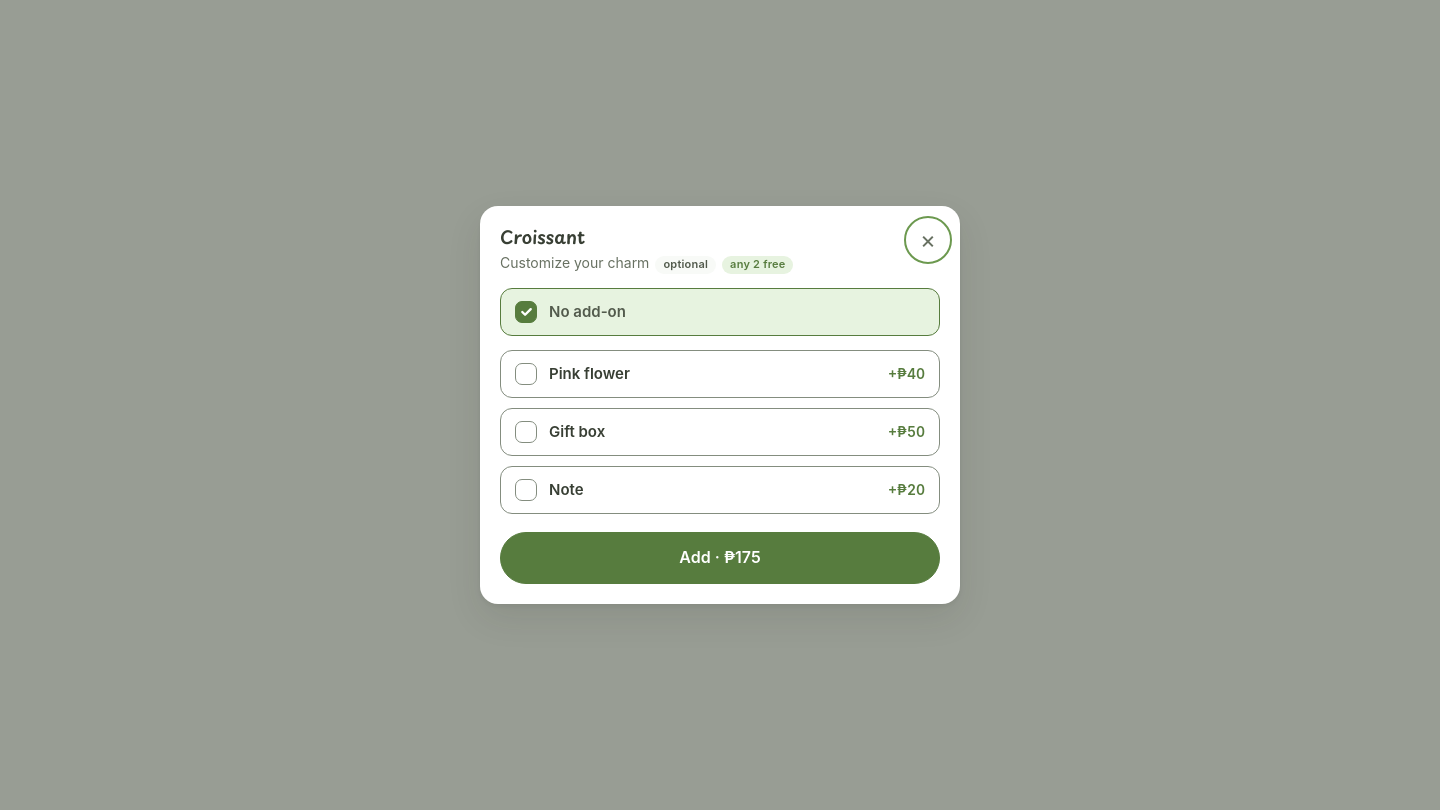
it: the add-on picker's running price › moves the charge onto the cheapest once they pick a third
Click the checkbox labelled "Pink flower +₱40" at point(526, 374), box [515,363,537,385]
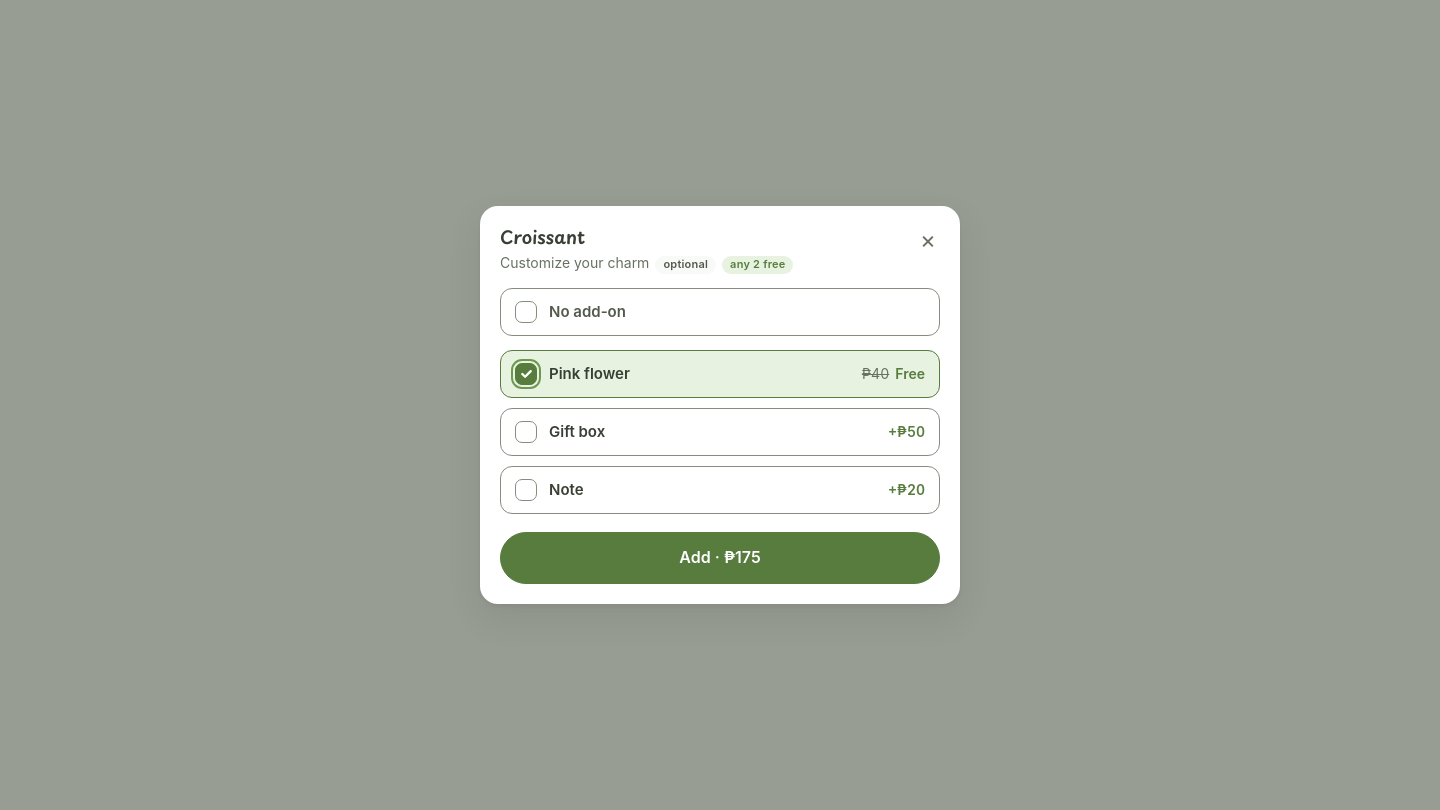
Click the checkbox labelled "Gift box +₱50" at point(526, 432), box [515,421,537,443]
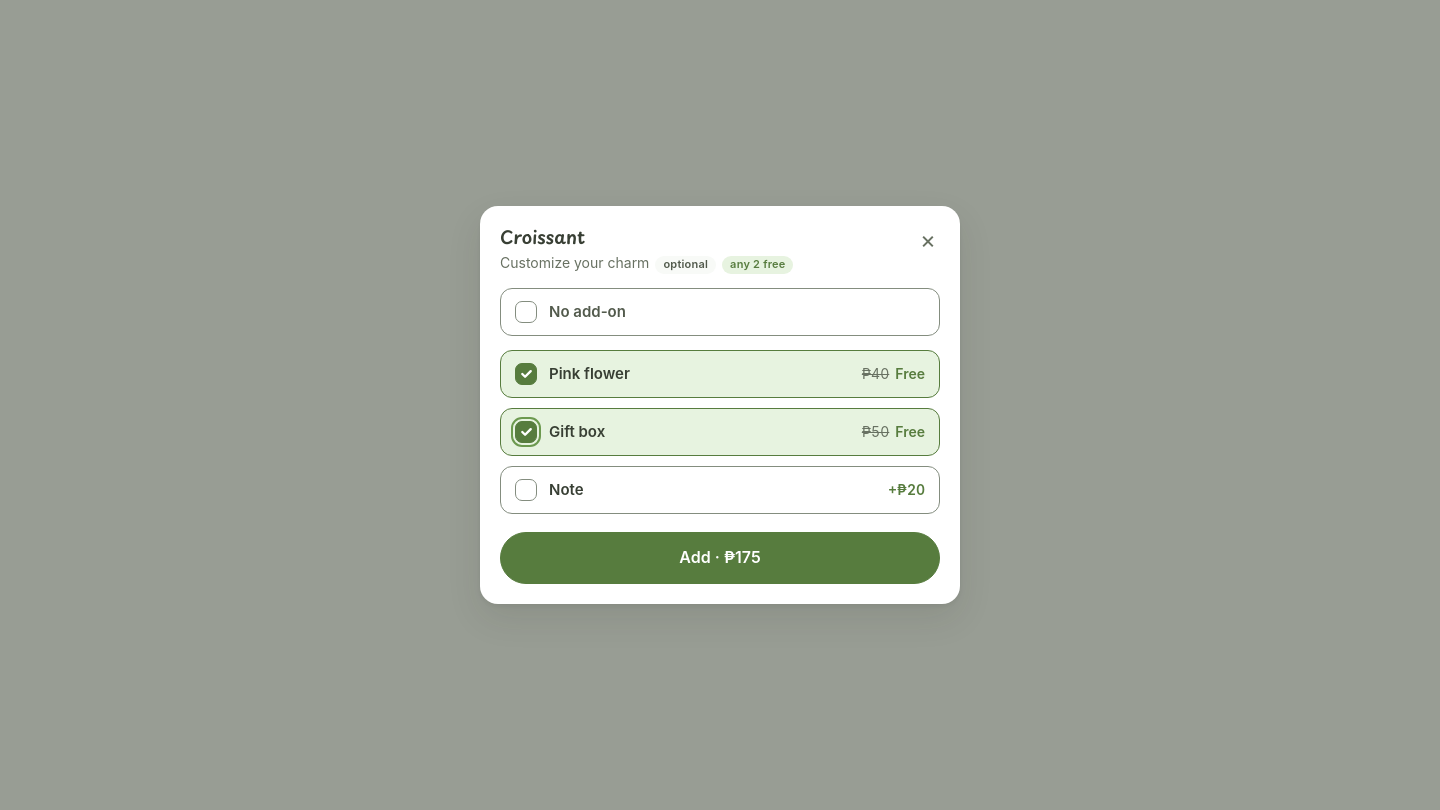
Click the checkbox labelled "Note +₱20" at point(526, 490), box [515,479,537,501]
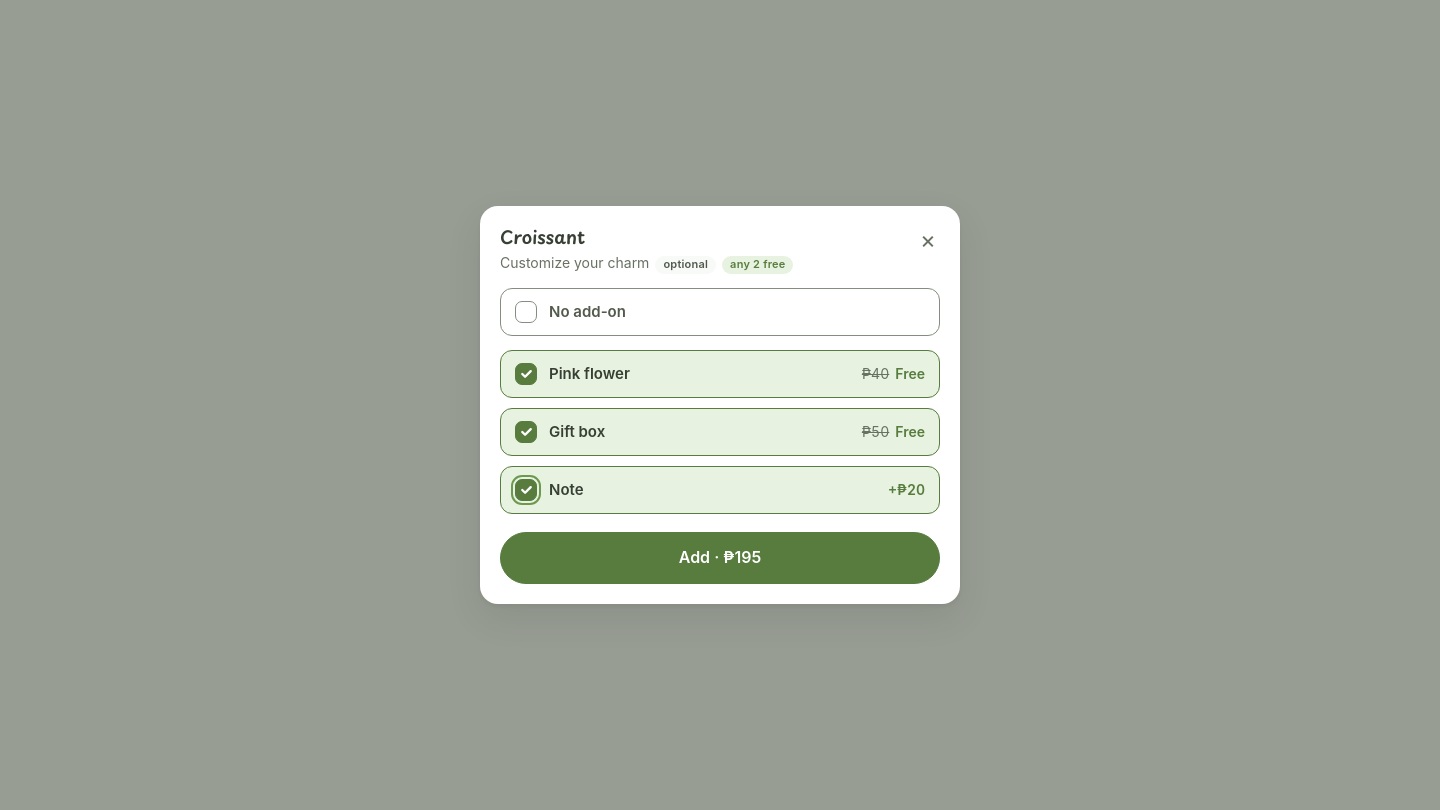
Now the button "Add · ₱195" is shown, box [500,532,940,584]
